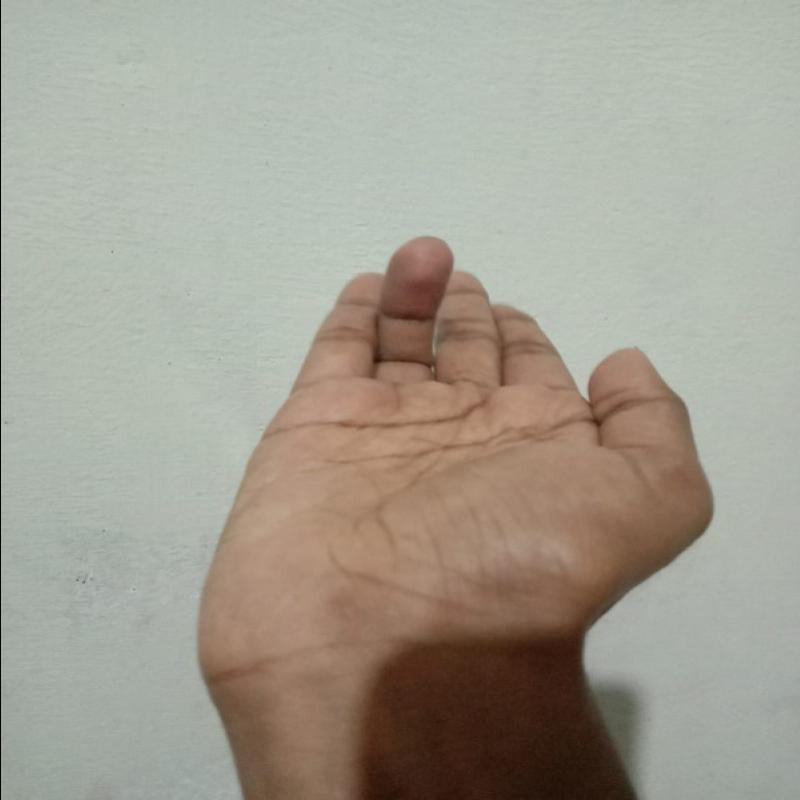Pathaaka: (174, 224, 728, 714)
